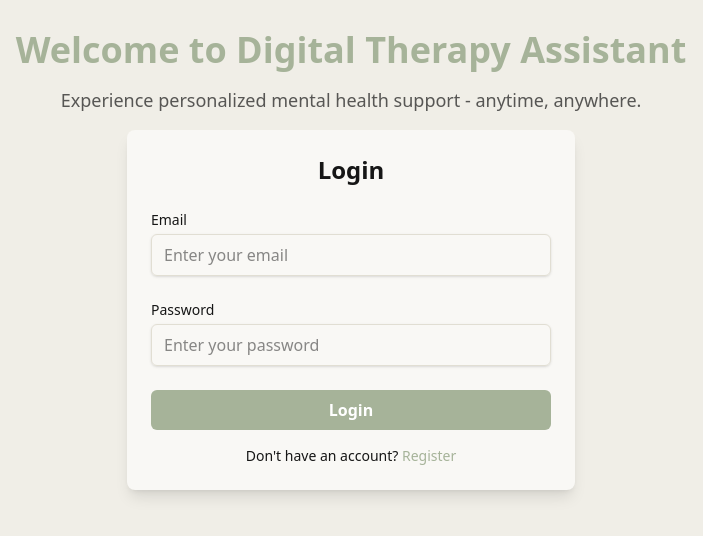
LoginForm - Server Error Response › displays an error message when login fails
The width and height of the screenshot is (703, 536).
# Fill out the form with invalid credentials
In the field labelled "Email": (351, 255) [151,234,551,276], type "john@example.com"
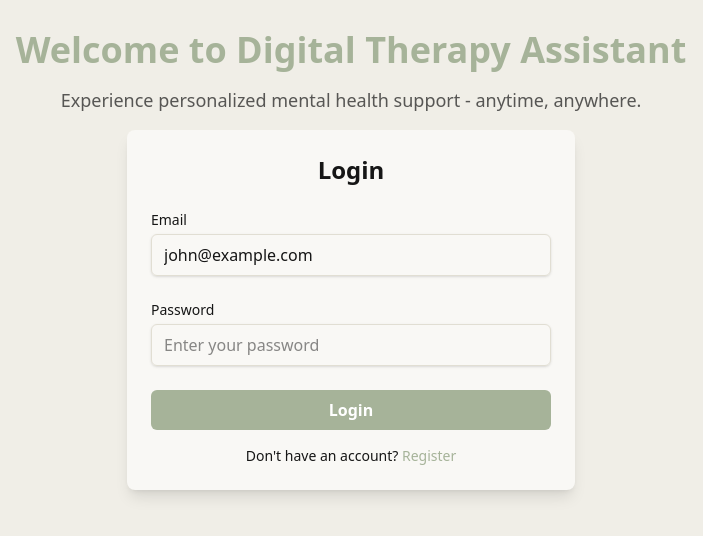
In the password field labelled "Password": (351, 345) [151,324,551,366], type "wrongPassword"
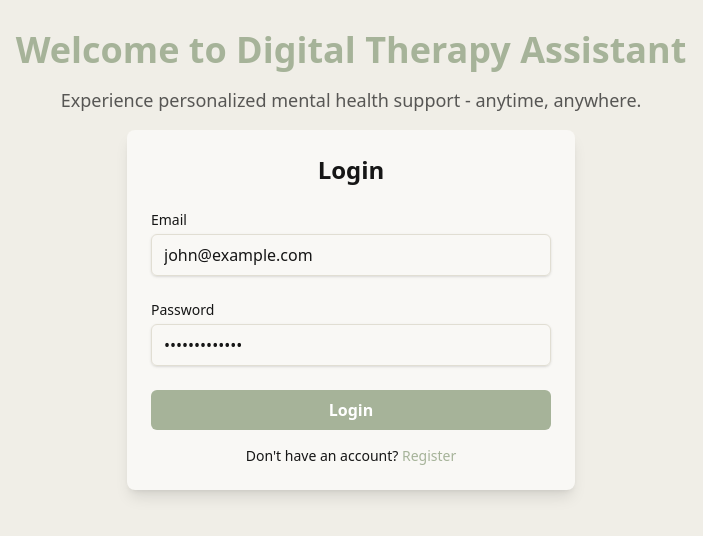
# Submit the form
Click the button "Login": (351, 410) [151,390,551,430]
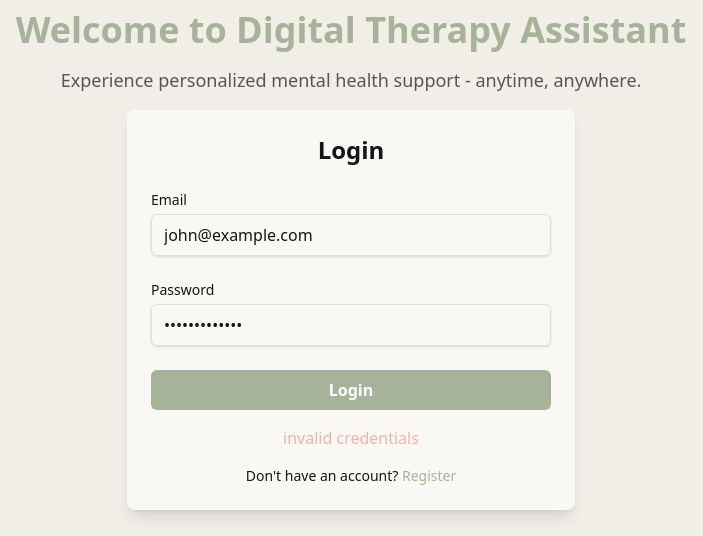
Now the text "invalid credentials" is shown, box [283,427,419,449]
